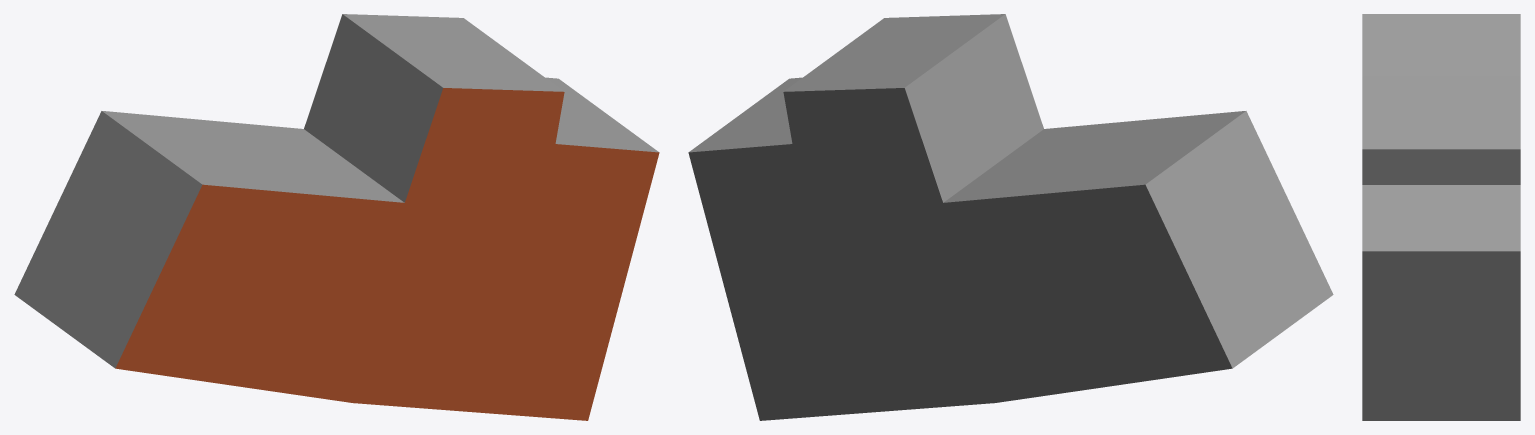
File: construction_5128_assumed_A_Casa_h6m.obj
3 renders of one model, left to right at view 1: azimuth 30°, elevation 25°; view 2: azimuth 150°, elevation 25°; view 3: azimuth 270°, elevation 25°, orthographic. The views are drawn at different scales.
Parts seen in each view (by area): view 1: construction_5128_assumed_A_Casa; view 2: construction_5128_assumed_A_Casa; view 3: construction_5128_assumed_A_Casa.
Boxes of the visible parts, box(x1,y1,x2,y2) form: construction_5128_assumed_A_Casa: box(14, 14, 659, 420); construction_5128_assumed_A_Casa: box(688, 14, 1333, 420); construction_5128_assumed_A_Casa: box(1362, 14, 1520, 420).
Size of the model in its own units: 18.68 by 12.08 by 6.
